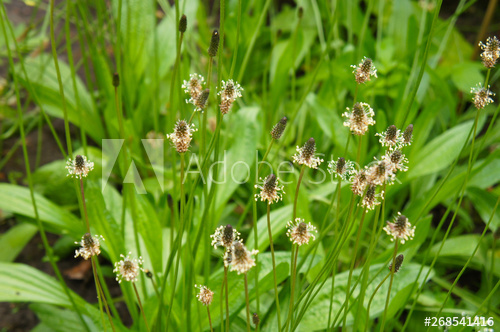buckhorn plantain: (68, 11, 494, 305)
